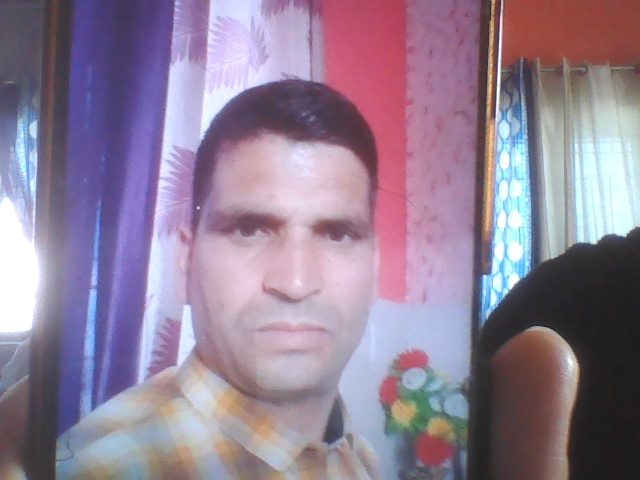fake: (164, 57, 411, 407)
